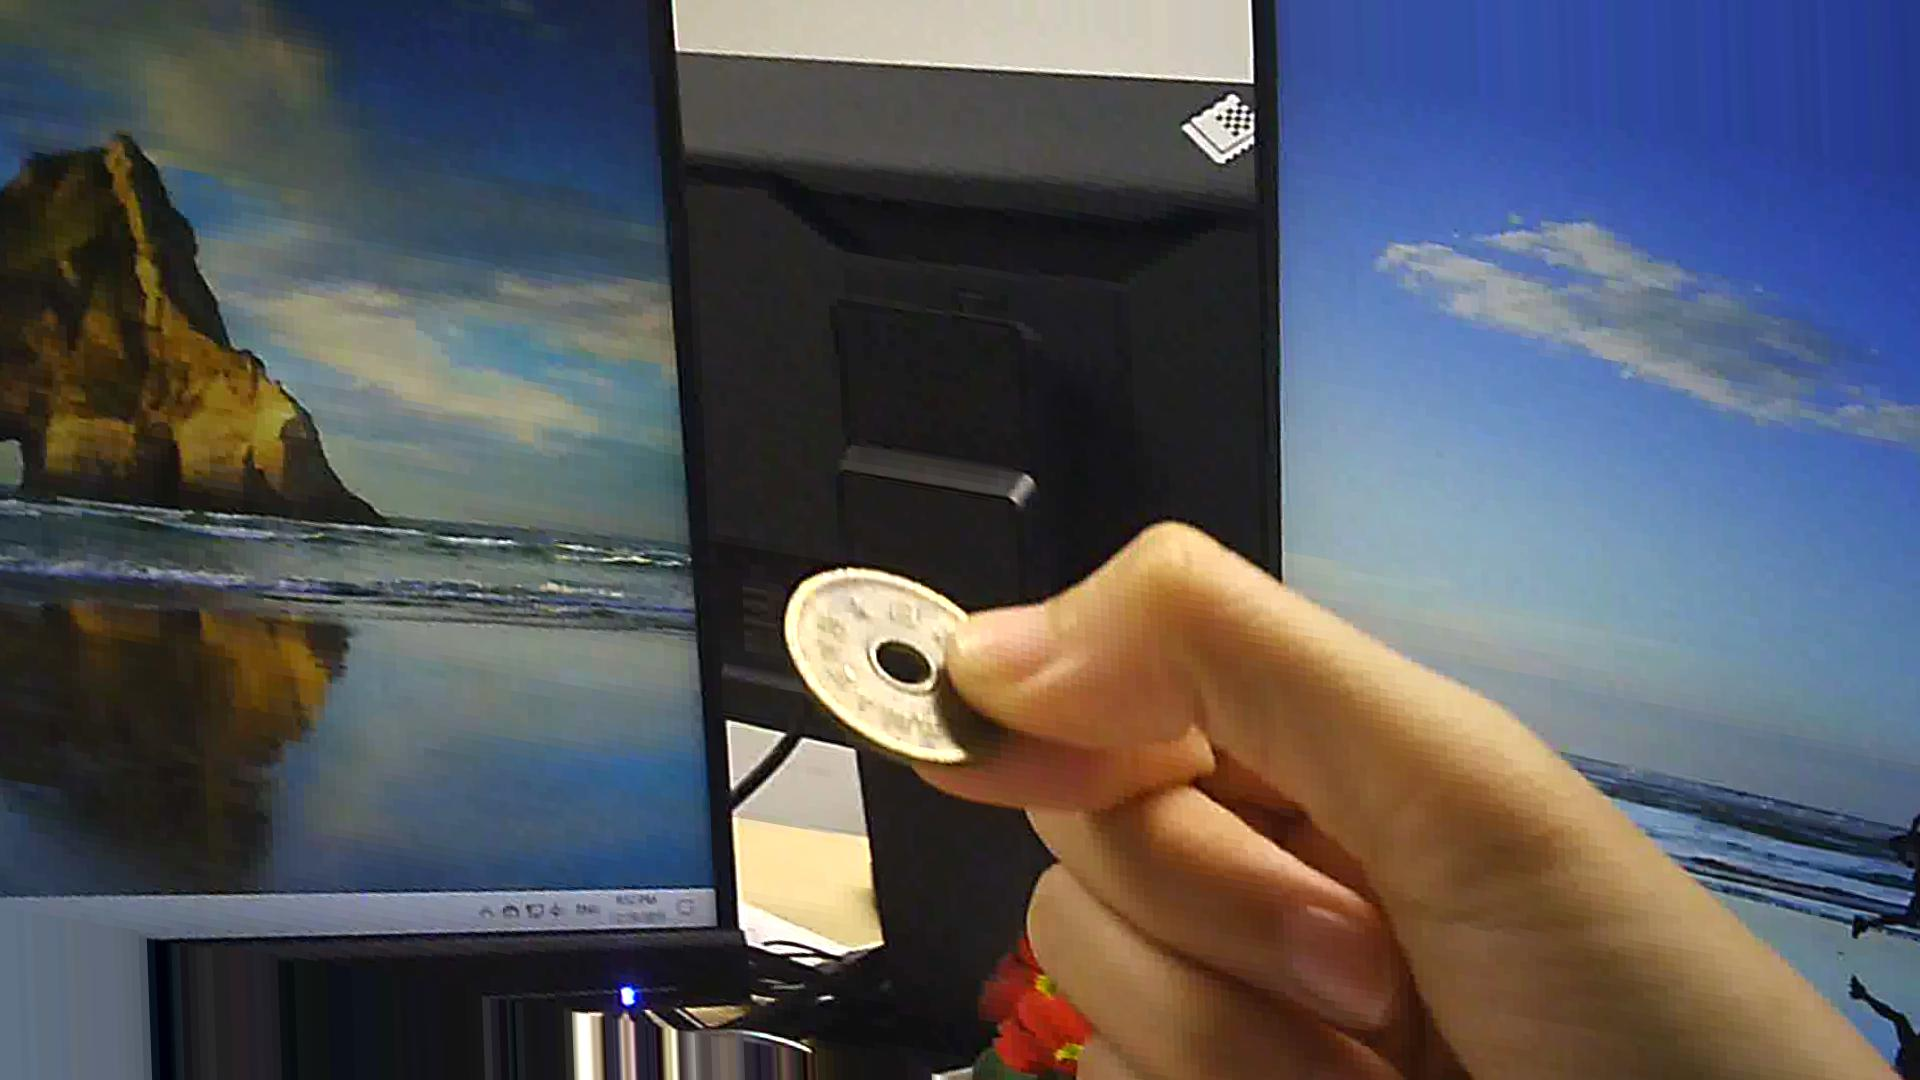5 Yen: (773, 559, 1018, 790)
